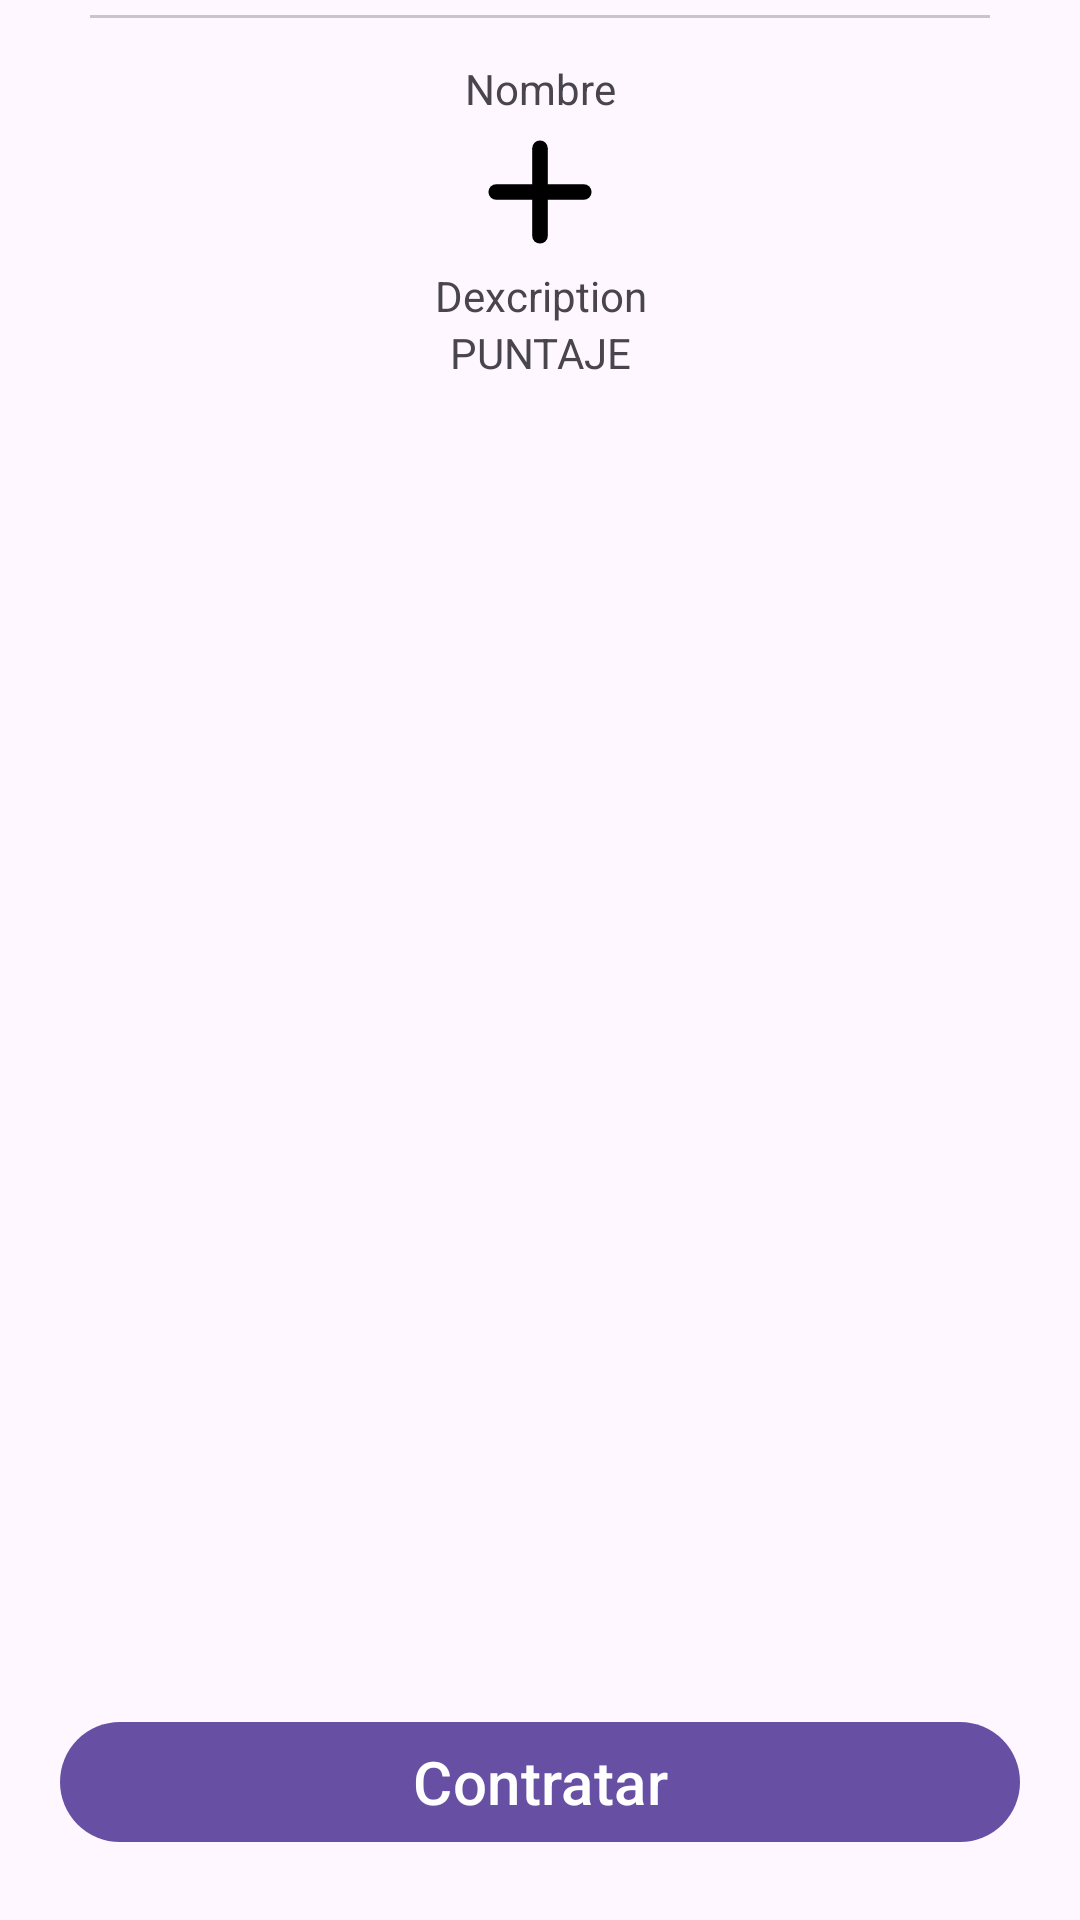

Icon bounding boxes for this 1080 × 1920 phone screenshot, format (x1,y1,x2,y2):
plus: (488,140,592,244)
